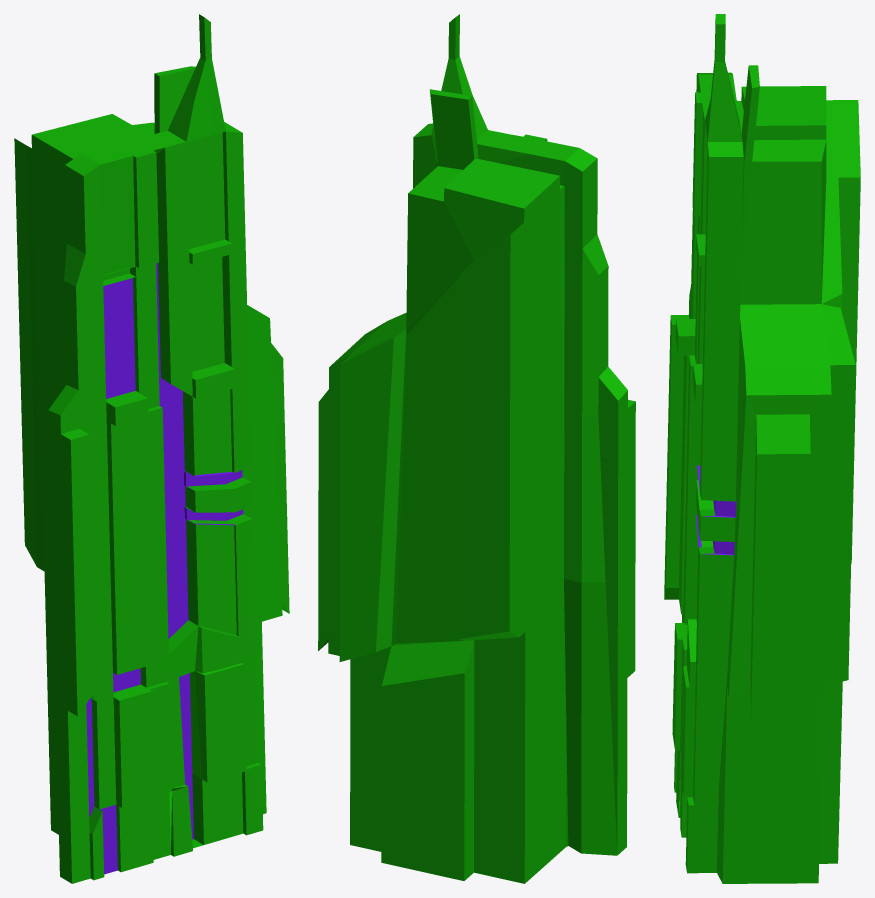
The picture shows the model from 3 angles, left to right: view 1: azimuth 30°, elevation 25°; view 2: azimuth 150°, elevation 25°; view 3: azimuth 270°, elevation 25°; orthographic projection. The views are drawn at different scales.
Parts seen in each view (by area): view 1: Box002; view 2: Box002; view 3: Box002.
Part boxes in pixels (<box>): Box002: <box>14,14,289,883</box>; Box002: <box>318,14,635,883</box>; Box002: <box>664,14,860,883</box>.
Size of the model in its own units: 65.99 by 198 by 42.
